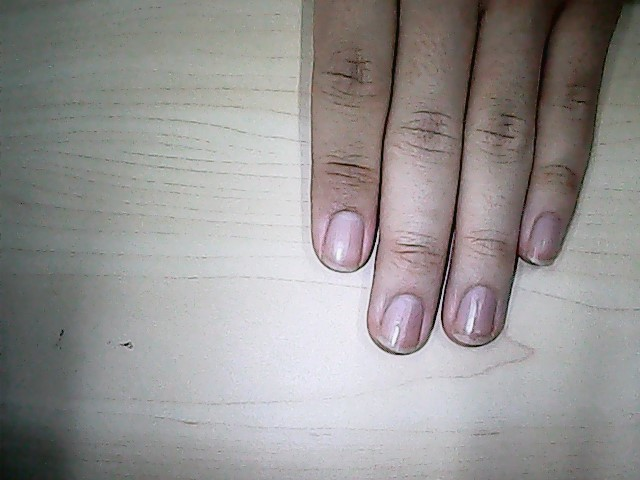nail: (453, 287, 494, 349), (327, 210, 361, 272), (387, 294, 419, 352), (532, 216, 560, 265)
